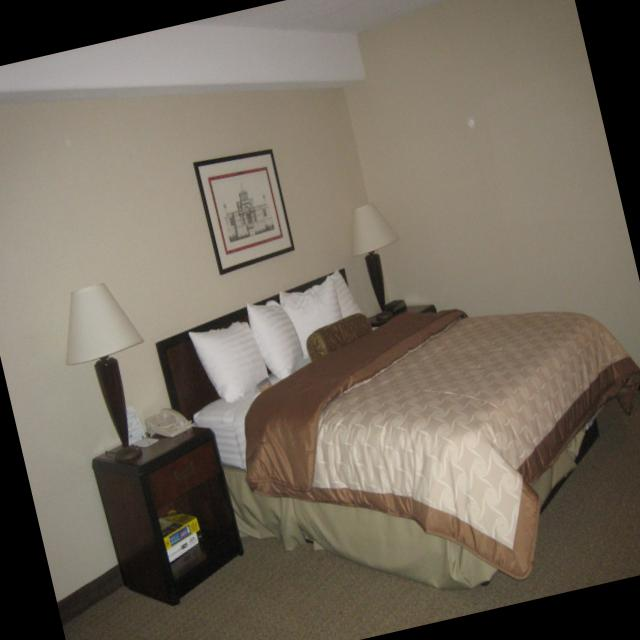bed -occluded-: (154, 266, 640, 589)
books crop: (158, 508, 199, 562)
ceiling beam: (178, 0, 444, 33)
cushion occluded: (309, 310, 373, 359)
floor -X: (63, 342, 640, 640)
lamp crop: (67, 281, 143, 460), (350, 201, 398, 314)
night table crop: (93, 420, 245, 607)
painting crop: (192, 148, 295, 275)
pillow occluded: (190, 320, 271, 402), (280, 276, 342, 353), (248, 298, 304, 377)
telephone booth: (144, 406, 194, 437)
wall clock: (0, 27, 404, 624), (343, 0, 640, 386)
